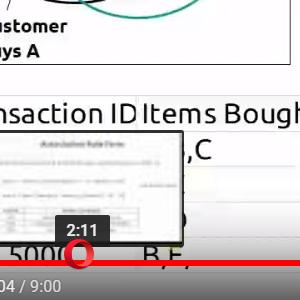opera: (65, 239, 94, 270)
